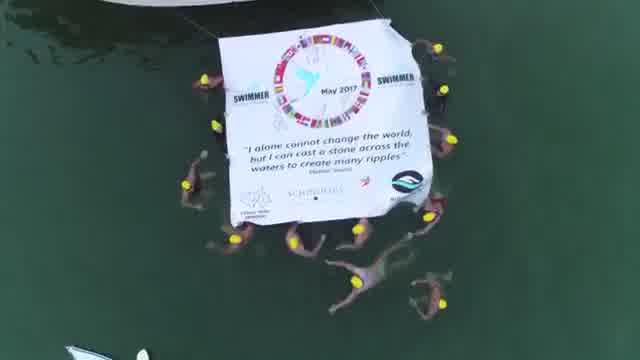swimmer: (329, 247, 397, 313), (404, 272, 458, 325), (172, 156, 210, 220), (410, 191, 450, 244), (282, 220, 326, 262), (426, 120, 464, 164), (411, 33, 448, 75), (208, 220, 254, 253), (342, 218, 374, 252), (196, 70, 222, 93)
